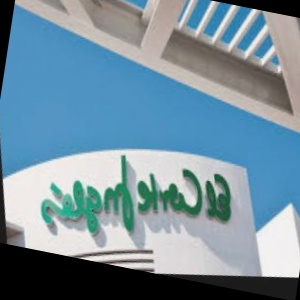corte_ingles: (64, 102, 300, 300)
